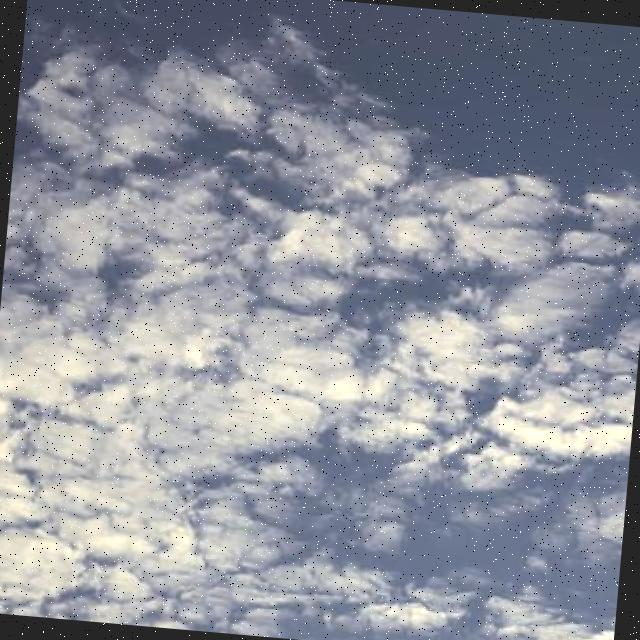Ac: (1, 1, 640, 640)
